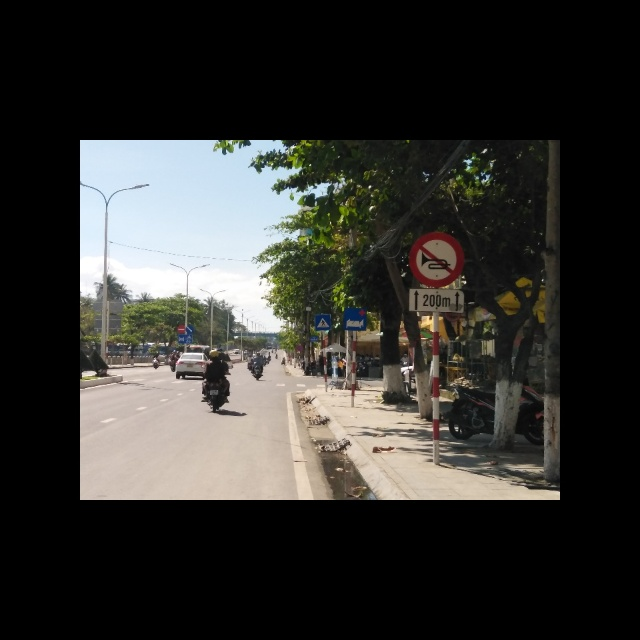Bệnh viện: (343, 309, 367, 332)
Cấm bấm còi: (409, 229, 463, 288)
Đường dành cho người đi bộ: (314, 314, 331, 330)
